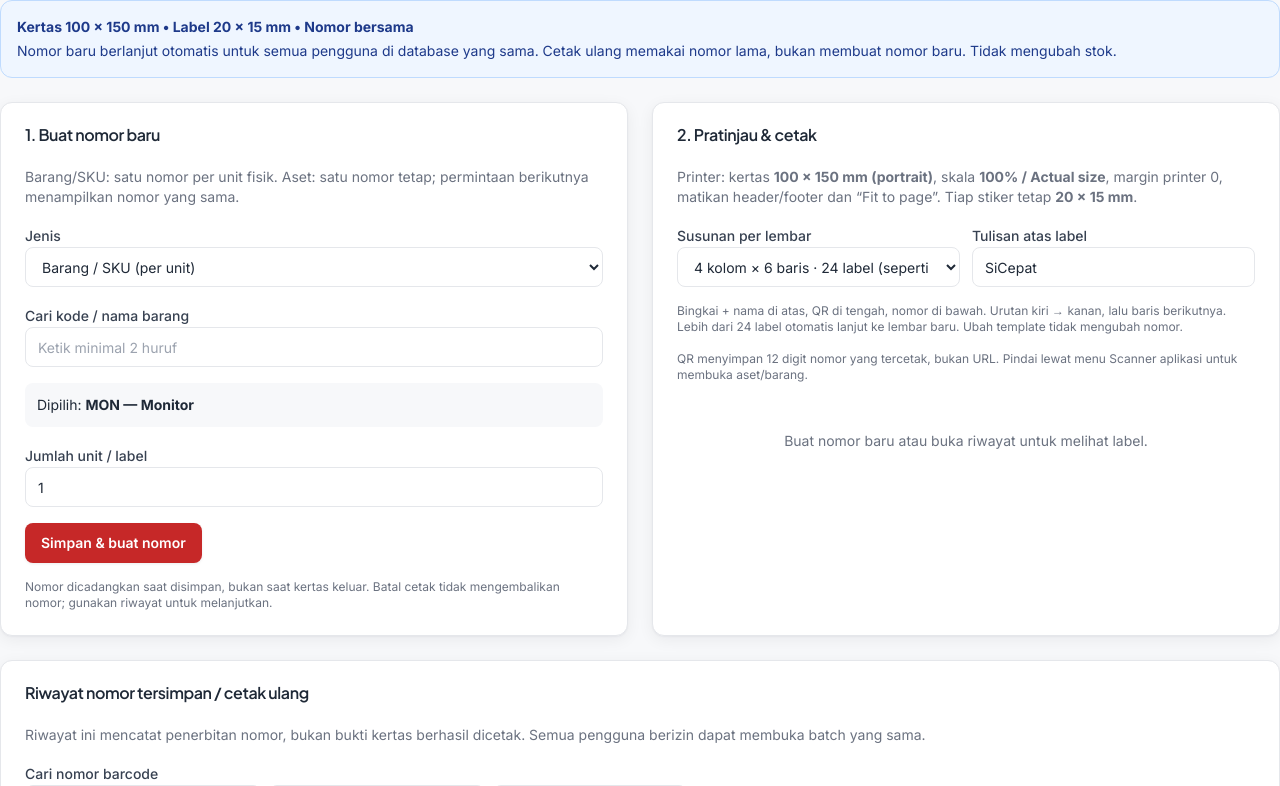
Test: mesin cetak QR › menolak jumlah desimal dan tidak memanggil server
Expected: the text "Dipilih: MON — Monitor" is shown, [25,383,603,427]
Replace the text in the number field labelled "Jumlah unit / label" with "1.5" at (314, 487), box [25,467,603,507]
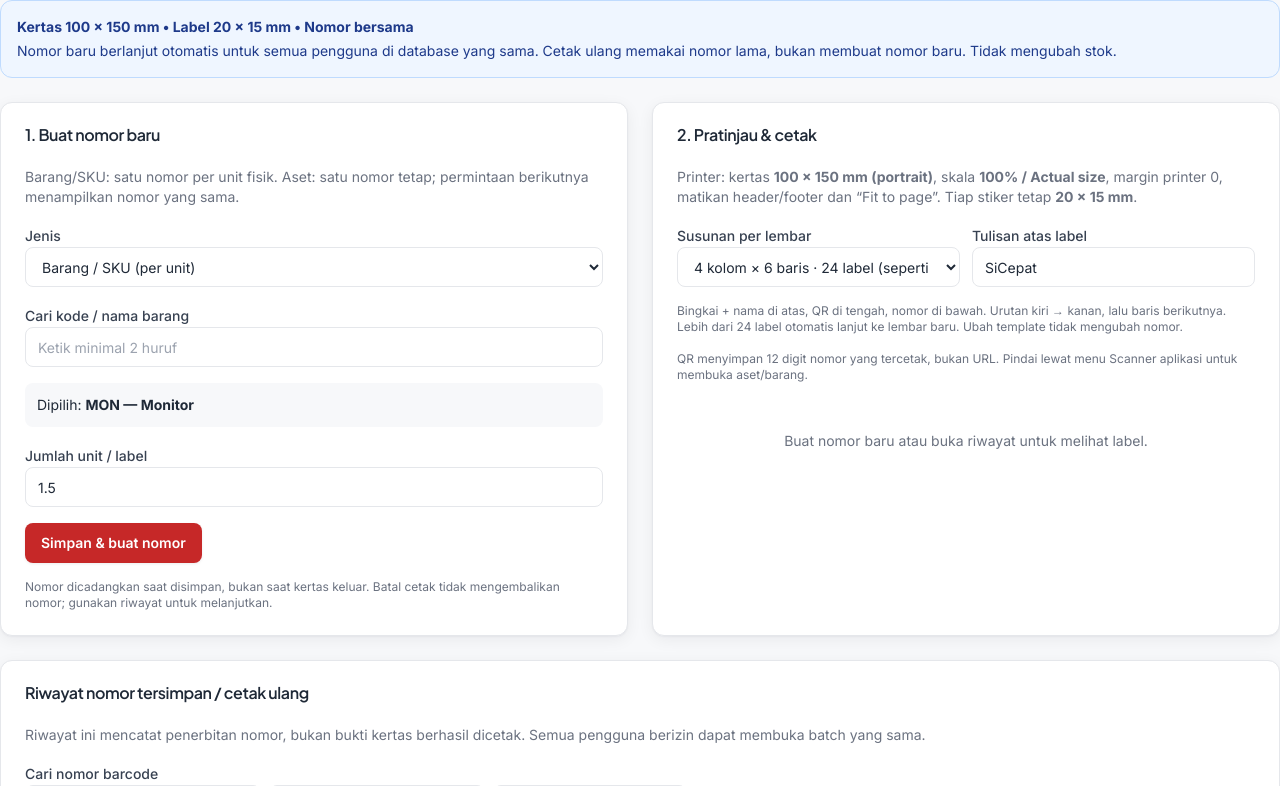
Click the button "Simpan & buat nomor" at (113, 543), box [25,523,202,563]
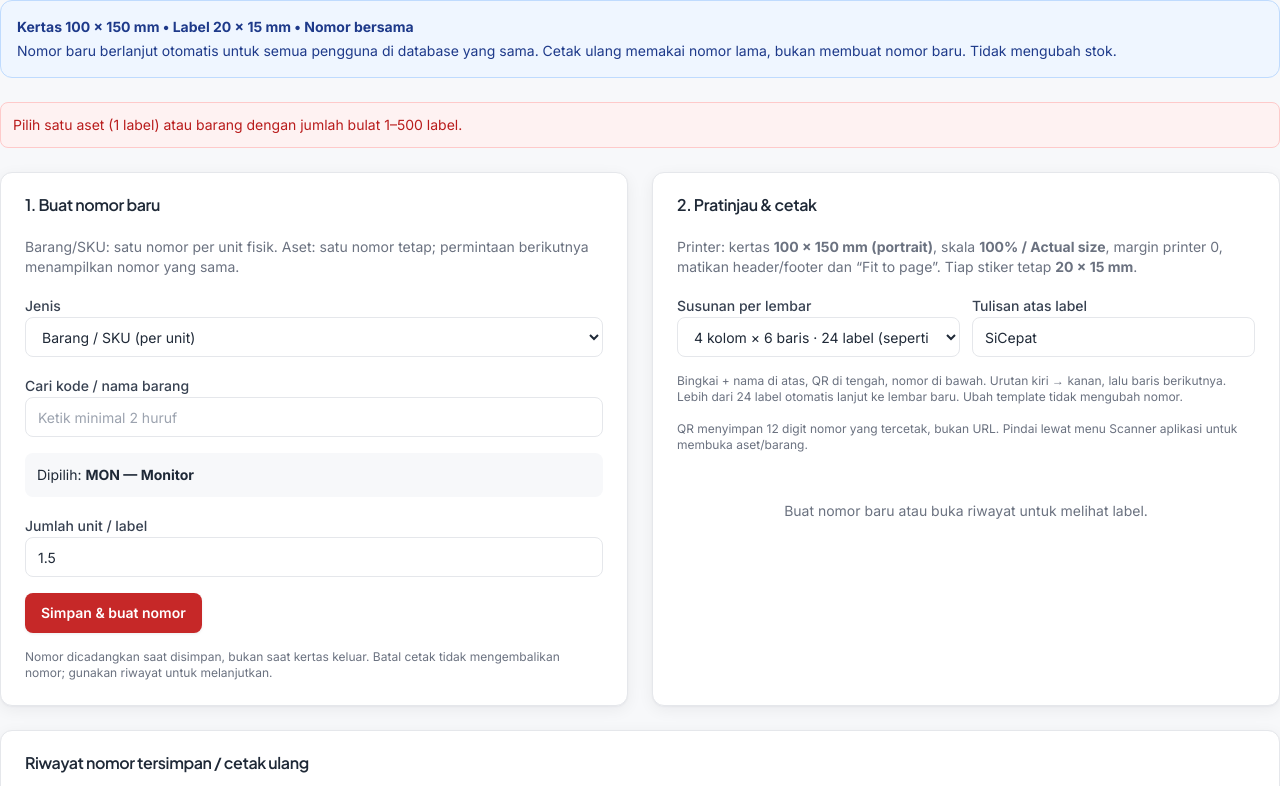
Result: the message shows "jumlah bulat 1–500" at [13,116,462,133]
